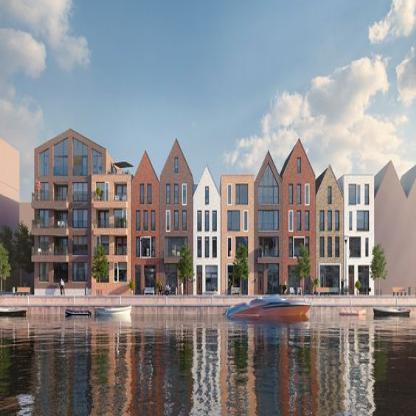Balcony: (106, 169, 134, 176), (32, 248, 49, 256), (32, 220, 49, 228), (32, 193, 49, 201), (54, 248, 67, 256), (54, 193, 67, 201), (54, 220, 67, 228), (114, 196, 128, 202), (95, 224, 109, 230), (95, 250, 109, 256), (114, 250, 128, 256)
Building Outline: (30, 127, 375, 295)
Door: (58, 265, 67, 283), (118, 239, 127, 255), (40, 237, 48, 253), (40, 183, 48, 199), (40, 211, 48, 227), (101, 212, 109, 228), (242, 275, 248, 296), (305, 274, 311, 295), (58, 187, 67, 201), (58, 213, 67, 227), (58, 239, 67, 253), (320, 274, 325, 295), (258, 275, 263, 294), (349, 275, 354, 294), (197, 275, 202, 294), (136, 275, 139, 294)
Facade: (30, 128, 375, 296)
Floor Slab: (132, 258, 374, 263), (132, 205, 374, 210), (132, 232, 374, 236), (31, 256, 131, 262), (31, 230, 131, 236), (31, 202, 131, 208), (35, 177, 131, 183)
Glass Wall: (258, 163, 279, 204), (73, 138, 88, 176), (54, 138, 68, 176), (166, 238, 188, 257), (258, 211, 279, 230), (258, 238, 279, 257), (326, 266, 339, 295), (289, 266, 300, 295), (358, 266, 369, 295), (145, 267, 156, 295), (92, 148, 102, 176), (39, 148, 49, 176), (165, 273, 177, 296), (227, 210, 240, 231), (228, 275, 240, 296), (206, 273, 218, 291), (268, 274, 278, 293), (294, 239, 304, 256)
Window: (357, 210, 370, 231), (235, 237, 248, 258), (235, 184, 248, 204), (349, 237, 361, 258), (74, 183, 88, 201), (73, 236, 87, 254), (96, 262, 108, 283), (96, 235, 108, 256), (114, 262, 127, 281), (114, 209, 127, 228), (96, 182, 108, 202), (73, 263, 87, 280), (73, 210, 87, 227), (142, 239, 150, 257), (349, 184, 356, 204), (40, 265, 48, 281), (165, 264, 177, 271), (206, 266, 218, 273), (228, 266, 240, 273), (365, 184, 369, 204), (305, 238, 309, 257), (320, 238, 324, 257), (320, 211, 324, 230), (289, 238, 293, 257), (205, 238, 209, 257), (205, 211, 209, 230), (205, 187, 209, 205), (268, 264, 278, 271), (244, 210, 247, 231), (228, 237, 231, 258), (228, 184, 231, 204), (358, 184, 361, 204), (140, 184, 143, 203), (148, 184, 151, 203), (289, 185, 292, 204), (306, 185, 309, 204), (297, 185, 300, 204), (335, 238, 338, 257), (328, 238, 331, 257), (335, 211, 338, 230), (328, 211, 331, 230), (167, 185, 170, 204), (183, 185, 186, 204), (175, 185, 178, 204), (213, 238, 216, 257), (198, 238, 201, 257), (213, 211, 216, 230), (198, 211, 201, 230), (365, 238, 368, 257), (152, 211, 155, 229), (151, 239, 154, 257), (144, 211, 147, 229), (137, 211, 140, 229), (137, 239, 140, 257), (306, 211, 309, 229), (297, 211, 300, 229), (328, 187, 331, 205), (349, 211, 352, 229), (167, 211, 170, 229), (183, 211, 186, 229), (175, 211, 178, 229), (289, 211, 292, 229), (297, 158, 300, 172), (175, 158, 178, 172), (197, 266, 202, 274), (258, 265, 263, 273), (320, 266, 325, 273), (349, 266, 354, 273), (136, 268, 139, 274)
